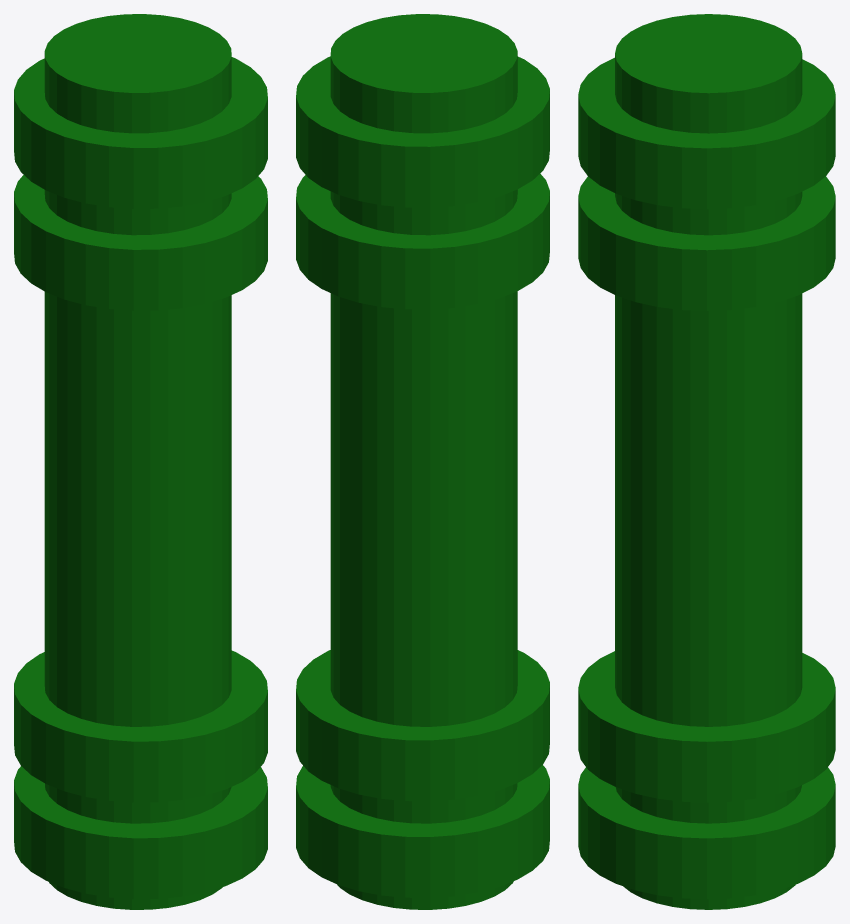
The model's file is bamboo.fbx.
3 views of the same model, side by side, from view 1: azimuth 30°, elevation 25°; view 2: azimuth 150°, elevation 25°; view 3: azimuth 270°, elevation 25° (orthographic).
Parts seen in each view (by area): view 1: Cylinder.001; view 2: Cylinder.001; view 3: Cylinder.001.
Boxes of the visible parts, <box> form: Cylinder.001: <box>14,14,267,909</box>; Cylinder.001: <box>296,14,549,909</box>; Cylinder.001: <box>578,14,835,909</box>.
Bounding box in the file's own units: 469 × 1670 × 477.
